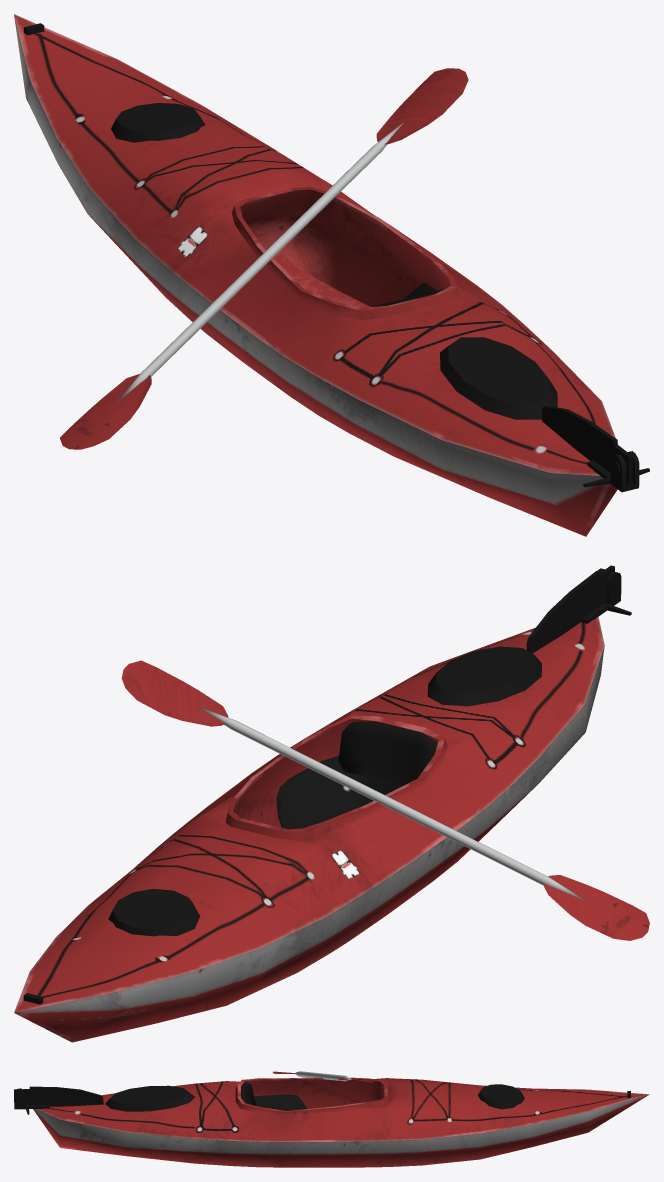
Rendered from kayak.glb.
3 views of the same model, one above another, from view 1: azimuth 30°, elevation 25°; view 2: azimuth 150°, elevation 25°; view 3: azimuth 270°, elevation 25° (orthographic). The views are drawn at different scales.
Parts seen in each view (by area): view 1: polySurface3, pCylinder5, pCylinder2, pCylinder1, pCube3, pCube5; view 2: polySurface3, pCylinder5, pCylinder2, polySurface4, polySurface2, pCylinder1, pCube3, pCube5; view 3: polySurface3, pCylinder2, pCube3, pCylinder1, polySurface2, pCylinder5, pCube5, polySurface4.
Boxes of the visible parts, <box> form: polySurface3: <box>14,14,618,536</box>; pCylinder5: <box>60,68,468,449</box>; pCylinder2: <box>440,337,557,419</box>; pCylinder1: <box>111,103,205,142</box>; pCube3: <box>542,405,632,486</box>; pCube5: <box>583,451,649,492</box>; polySurface3: <box>14,617,604,1042</box>; pCylinder5: <box>121,660,649,940</box>; pCylinder2: <box>427,646,541,706</box>; polySurface4: <box>338,721,437,785</box>; polySurface2: <box>276,756,402,829</box>; pCylinder1: <box>108,889,199,936</box>; pCube3: <box>526,565,614,653</box>; pCube5: <box>581,568,631,623</box>; polySurface3: <box>33,1077,649,1167</box>; pCylinder2: <box>105,1085,194,1111</box>; pCube3: <box>14,1086,103,1106</box>; pCylinder1: <box>478,1084,524,1109</box>; polySurface2: <box>254,1094,307,1110</box>; pCylinder5: <box>273,1071,374,1082</box>; pCube5: <box>14,1088,49,1114</box>; polySurface4: <box>241,1082,255,1105</box>.
Bounding box in the file's own units: 2.15 × 0.9446 × 4.92.
Materials: 1 (1 with a texture image).
